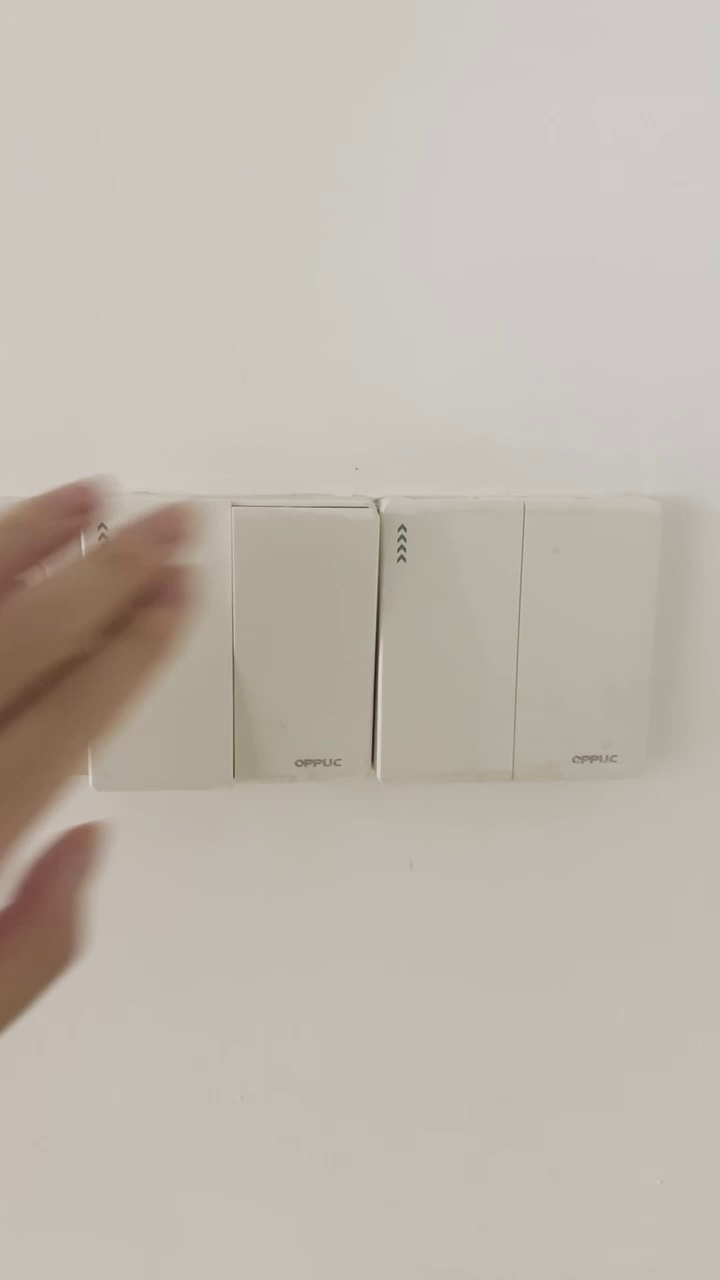button1: (84, 495, 229, 787), (380, 505, 519, 783), (519, 505, 652, 784), (236, 510, 371, 781)
